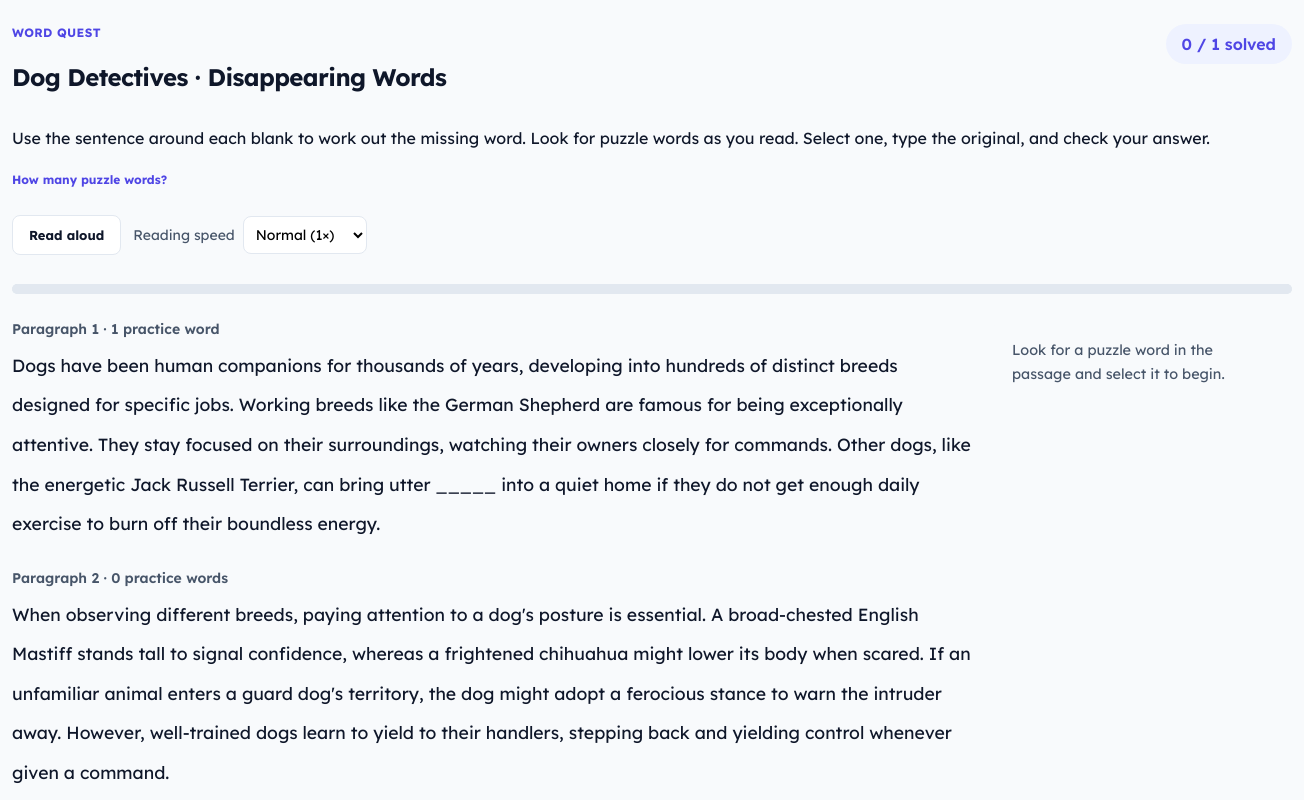
keeps an answer available for retry after a failed save
Step 1. Click the button named "Challenge 1:" → (466, 484), box x1=436 y1=470 x2=496 y2=497
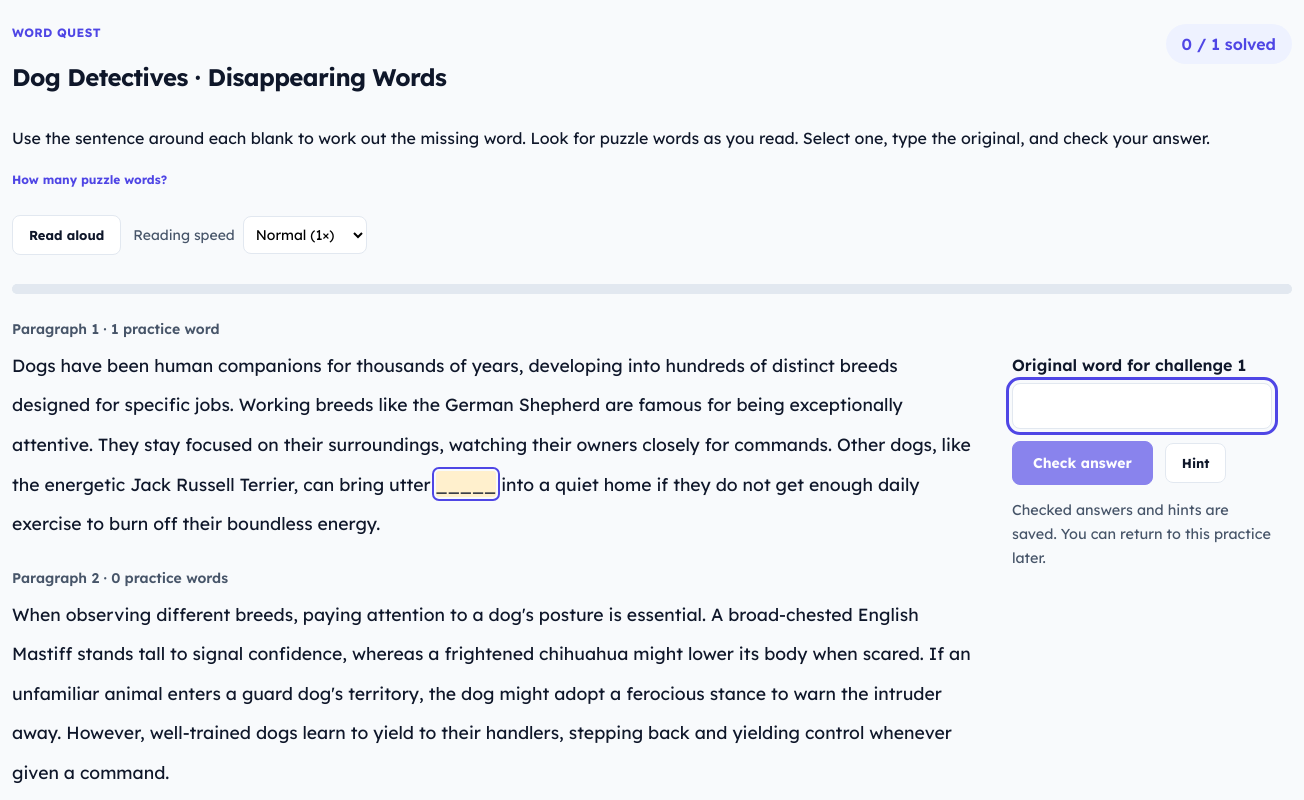
Step 2. Type "chaos" into the field labelled "Original word for challenge 1" → (1142, 406), box x1=1012 y1=383 x2=1272 y2=429
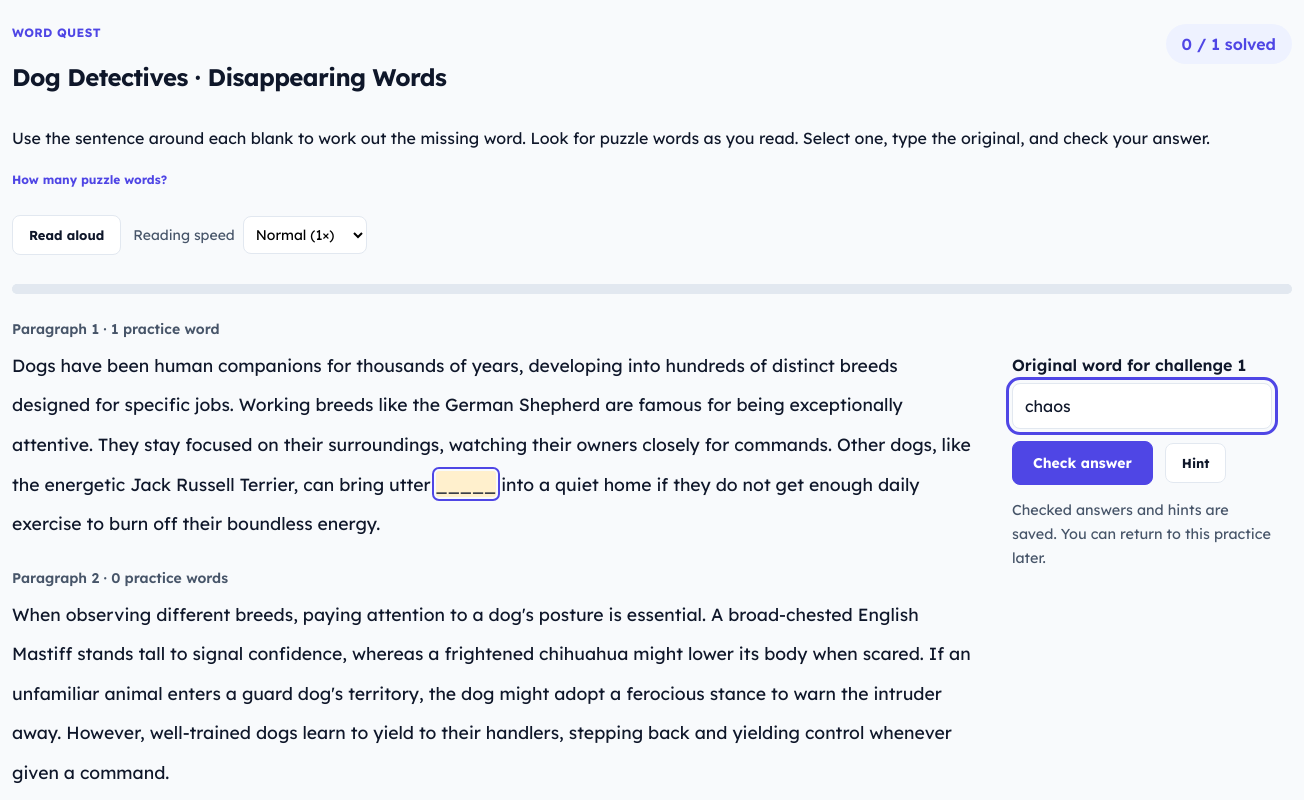
Step 3. Click the button "Check answer" → (1082, 463), box x1=1012 y1=441 x2=1153 y2=485
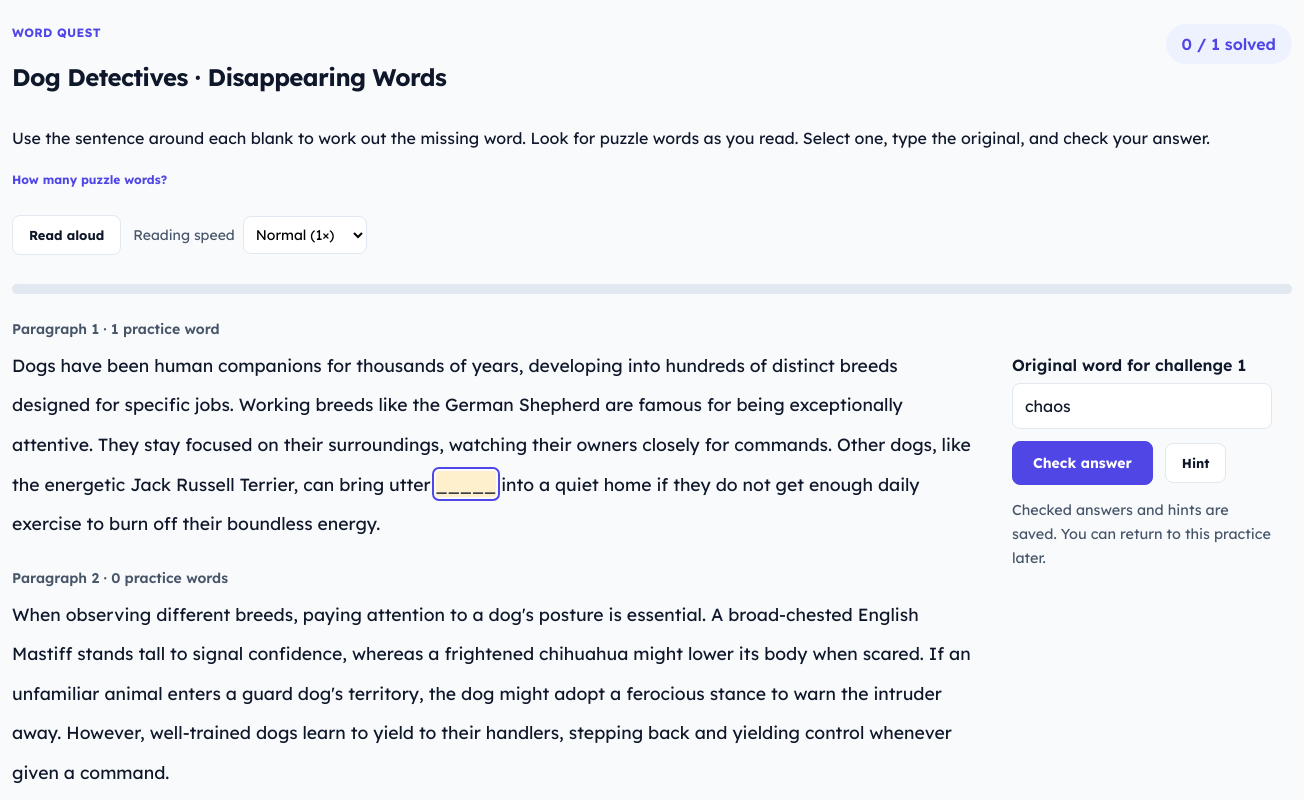
Step 4. Click the button "Check answer" → (1082, 463), box x1=1012 y1=441 x2=1153 y2=485
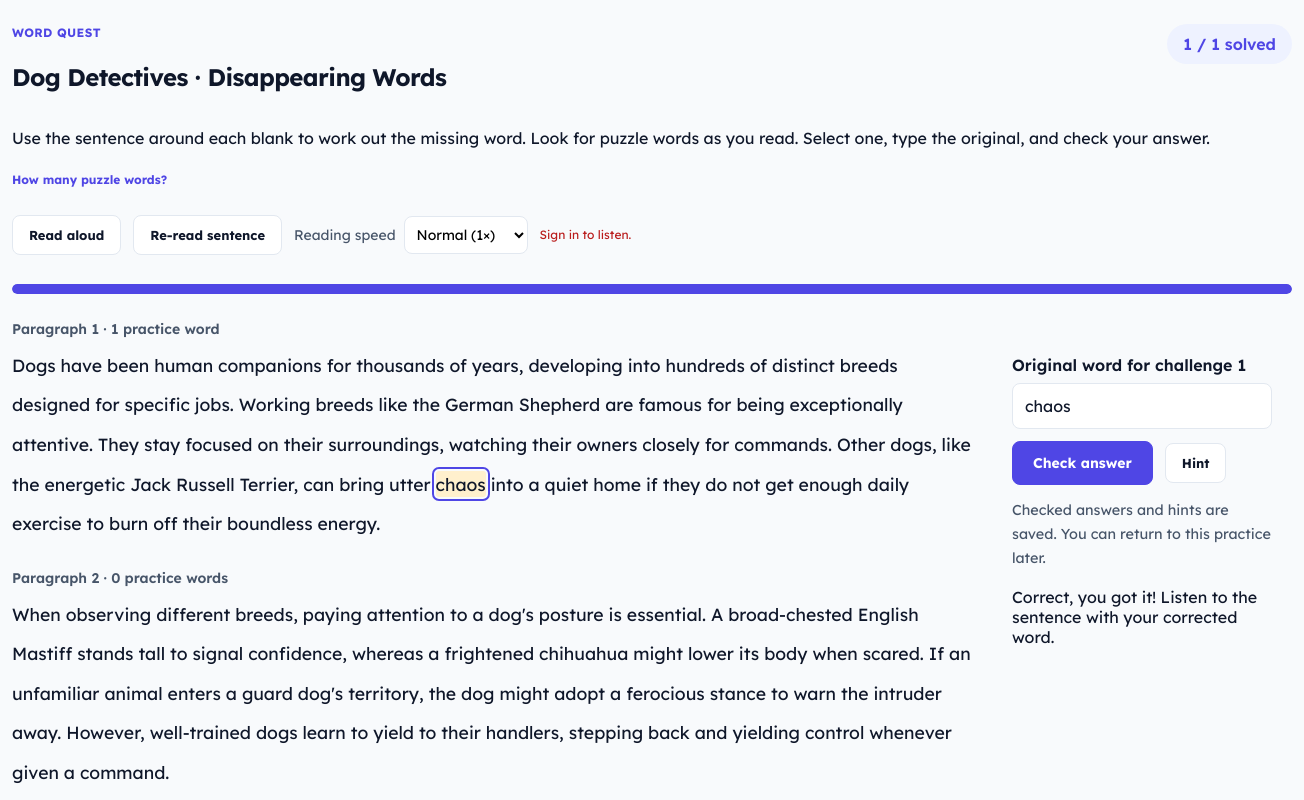
Check: the text "Correct, you got it!" is shown, box x1=1012 y1=586 x2=1257 y2=646
